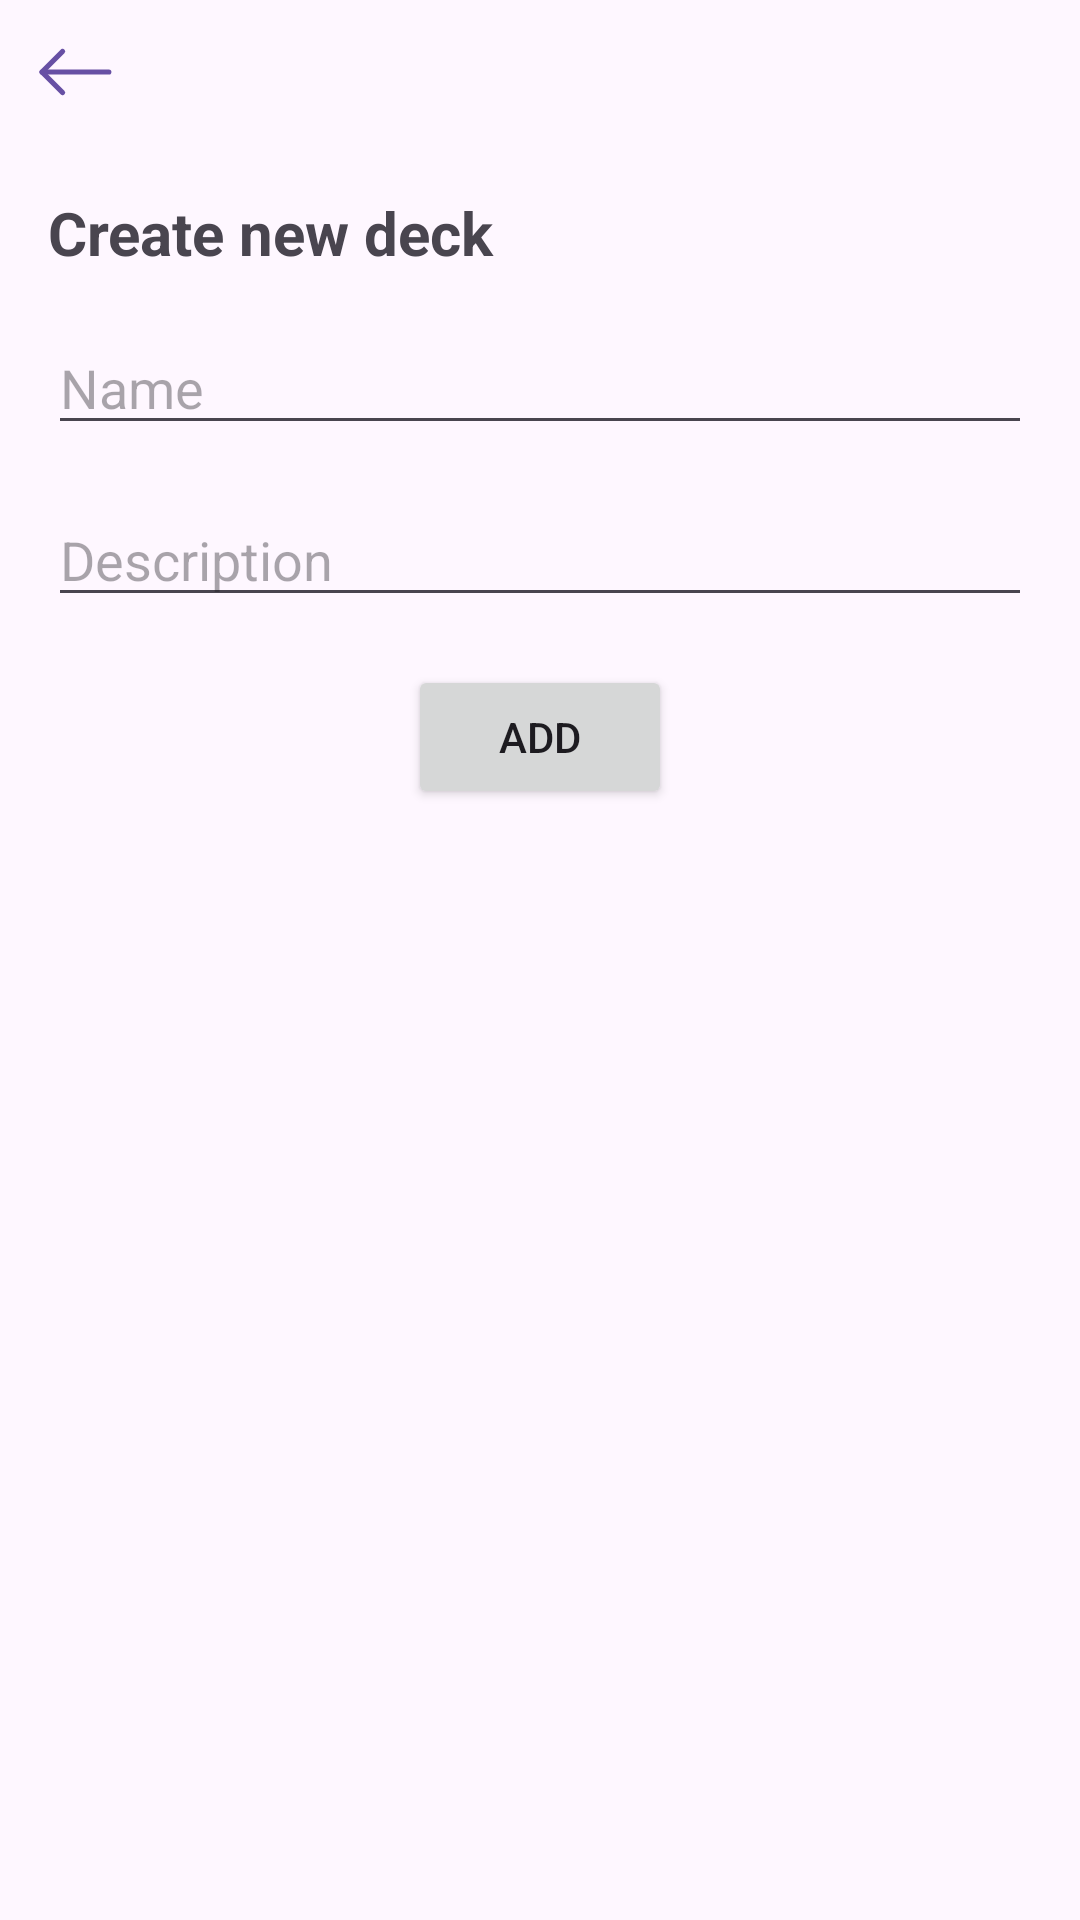

Where to tap for icons on this 1080×1920 app screen, as (x=x, y=y):
Back button: (x=75, y=72)
